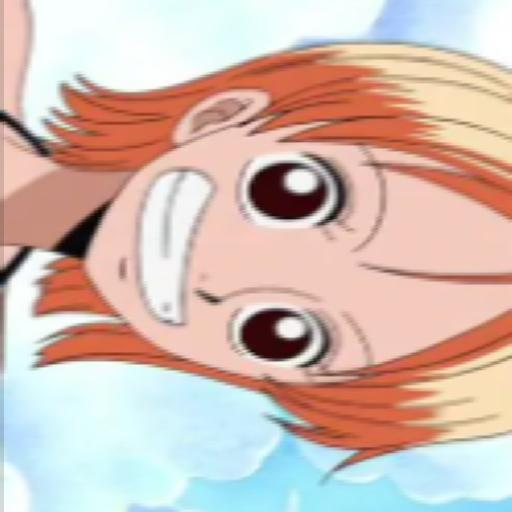Nami: (0, 4, 511, 485)
